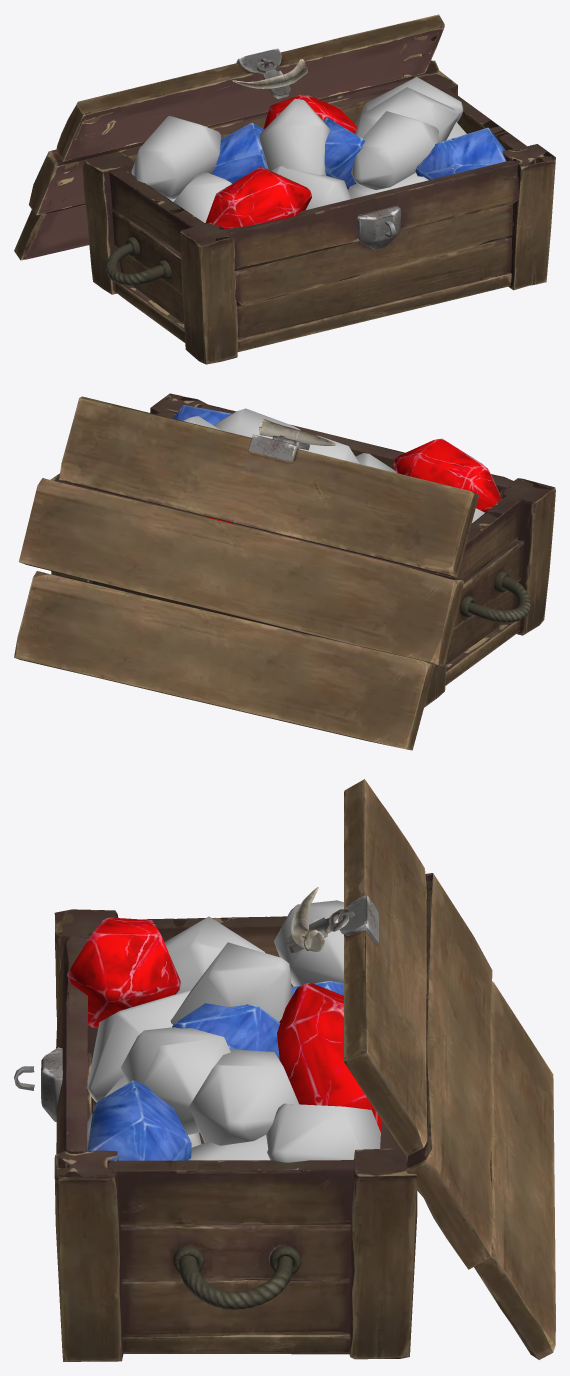
The picture shows the model from 3 angles, top to bottom: view 1: azimuth 30°, elevation 25°; view 2: azimuth 150°, elevation 25°; view 3: azimuth 270°, elevation 25°; orthographic projection. The views are drawn at different scales.
Visible parts, largest first — view 1: SM_Dec_Garou_Chest_Gemstone_LOD0; view 2: SM_Dec_Garou_Chest_Gemstone_LOD0; view 3: SM_Dec_Garou_Chest_Gemstone_LOD0.
Boxes of the visible parts, x1,y1,x2,y2 form: SM_Dec_Garou_Chest_Gemstone_LOD0: [14, 14, 555, 364]; SM_Dec_Garou_Chest_Gemstone_LOD0: [14, 393, 555, 750]; SM_Dec_Garou_Chest_Gemstone_LOD0: [14, 779, 555, 1361].
Size of the model in its own units: 1.46 by 0.6916 by 1.07.
